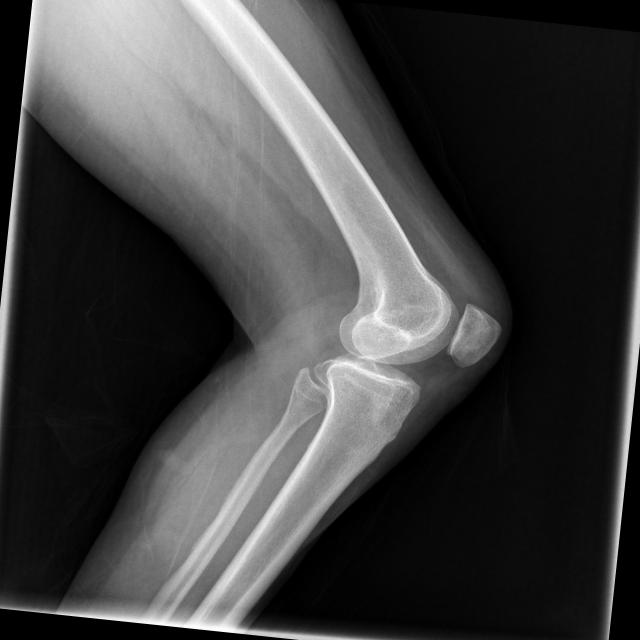Knee: (309, 262, 509, 442)
